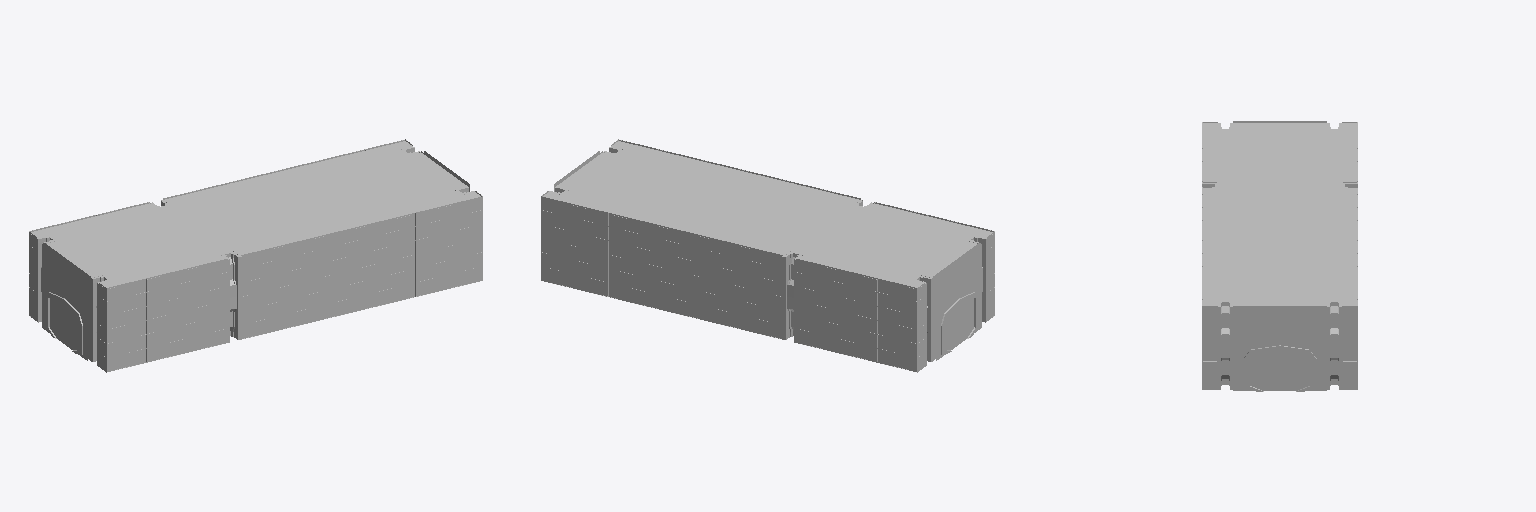
Rendered from Airlock.obj.
3 renders of one model, left to right at view 1: azimuth 30°, elevation 25°; view 2: azimuth 150°, elevation 25°; view 3: azimuth 270°, elevation 25°, orthographic.
Parts seen in each view (by area): view 1: Airlock_Cube.029; view 2: Airlock_Cube.029; view 3: Airlock_Cube.029.
Part boxes in pixels (x1,y1,x2,y2): Airlock_Cube.029: (29,139,482,372); Airlock_Cube.029: (541,139,994,372); Airlock_Cube.029: (1202,121,1357,391).
Bounding box in the file's own units: 28.6 × 6.01 × 10.